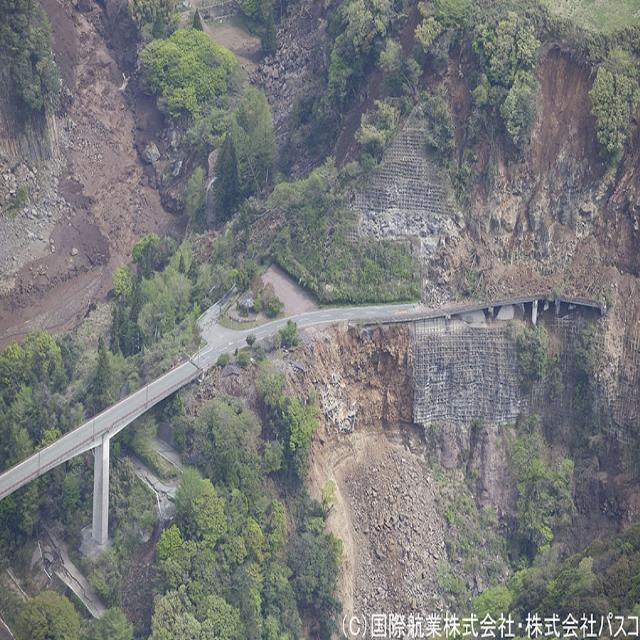Debris-flow: (421, 45, 640, 588), (270, 326, 520, 615), (0, 4, 190, 352), (205, 4, 330, 142), (398, 0, 472, 164), (326, 68, 384, 166), (121, 525, 161, 637)
